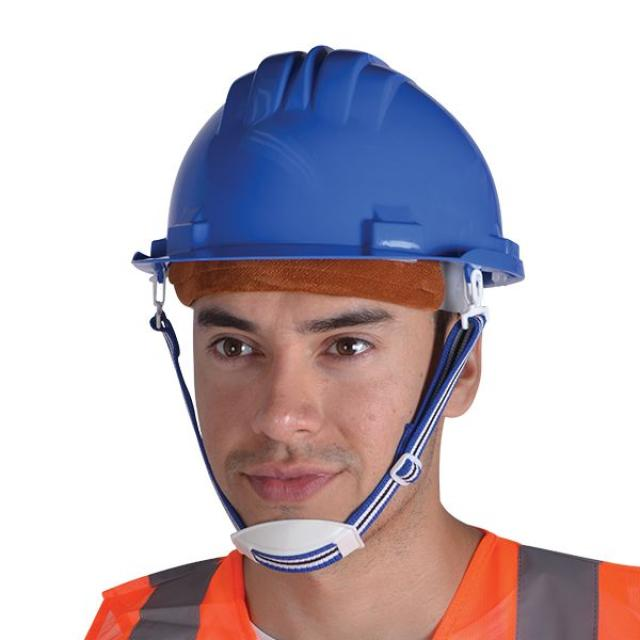illegal_helmet: (120, 38, 538, 582)
